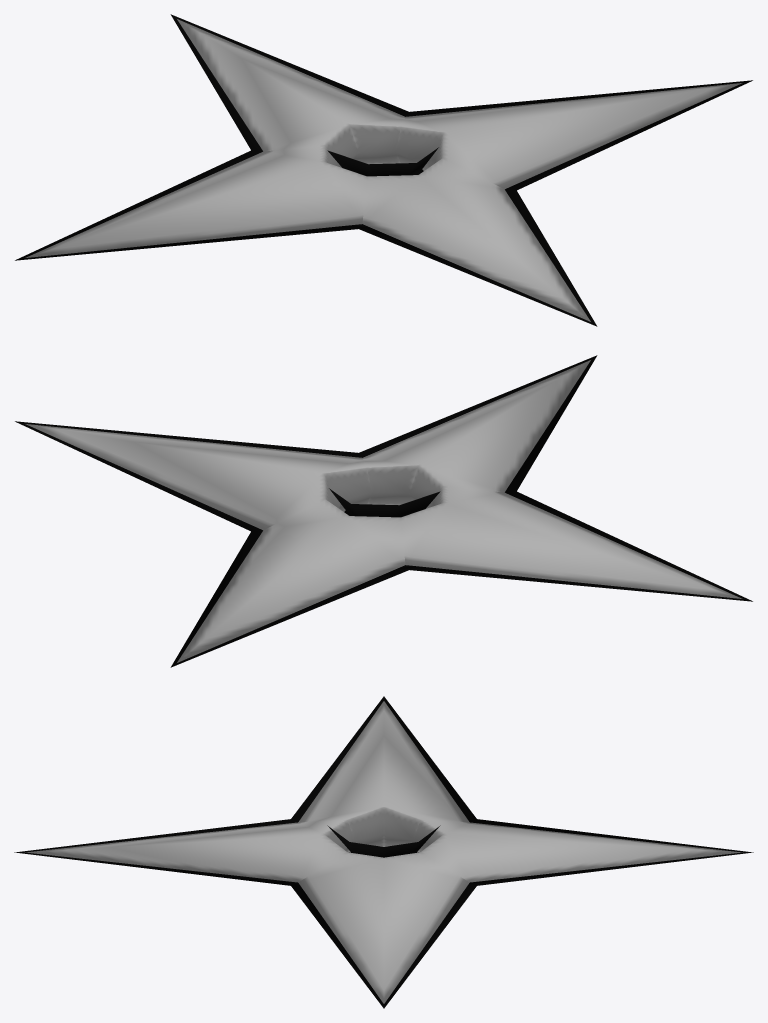
Rendered from Shuriken.glb.
The picture shows the model from 3 angles, top to bottom: view 1: azimuth 30°, elevation 25°; view 2: azimuth 150°, elevation 25°; view 3: azimuth 270°, elevation 25°; orthographic projection. The views are drawn at different scales.
Visible parts, largest first — view 1: Plane; view 2: Plane; view 3: Plane.
Boxes of the visible parts, x1,y1,x2,y2 form: Plane: (15,14,752,326); Plane: (15,355,752,667); Plane: (14,696,753,1008).
Bounding box in the file's own units: 2.06 × 0.1812 × 2.06.
Materials: 2 (1 with a texture image).
